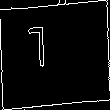L_S: (46, 29, 64, 81)
